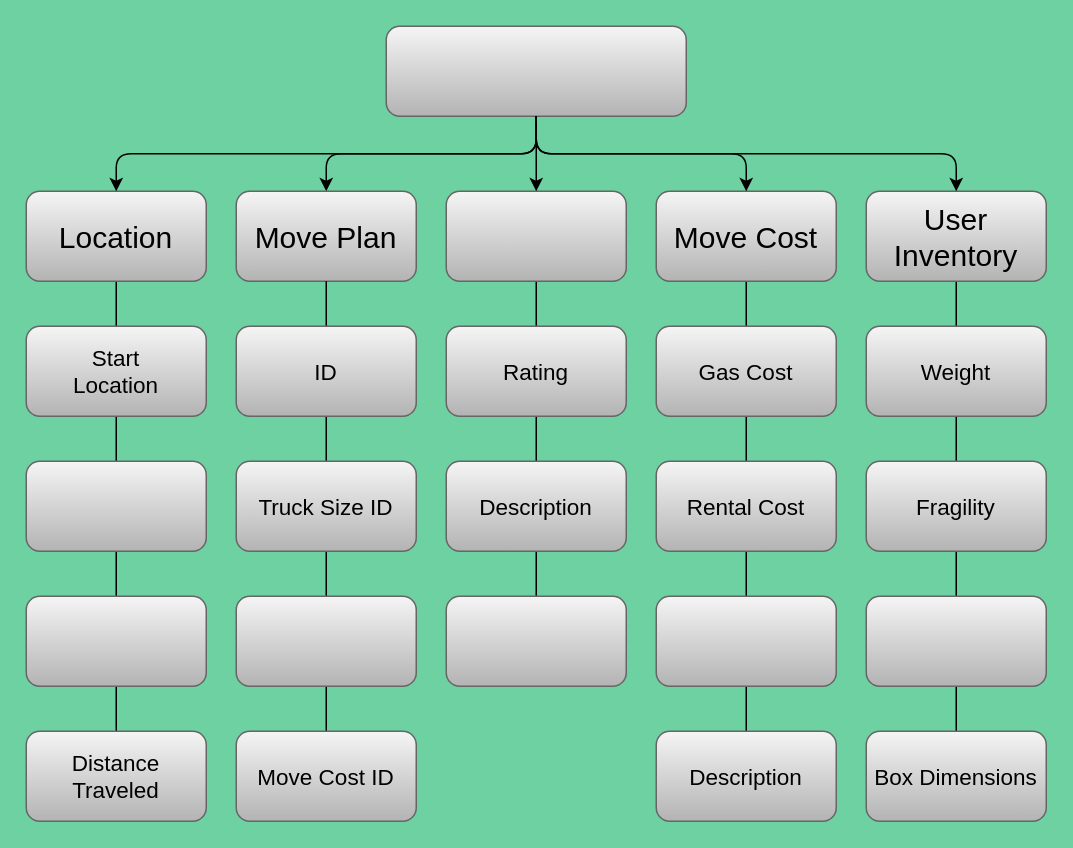
The diagram is 1073 pixels wide and 848 high, and some of its shapes have lost their labels. Each missing label, with the centre of its shape:
Analytics: point 535,70
End Location: point 115,505
Feedback: point 535,235
Feedback Responds: point 535,640
Location ID: point 325,640
Measurements: point 955,640
Supply Cost: point 745,640
Total Trips: point 115,640
